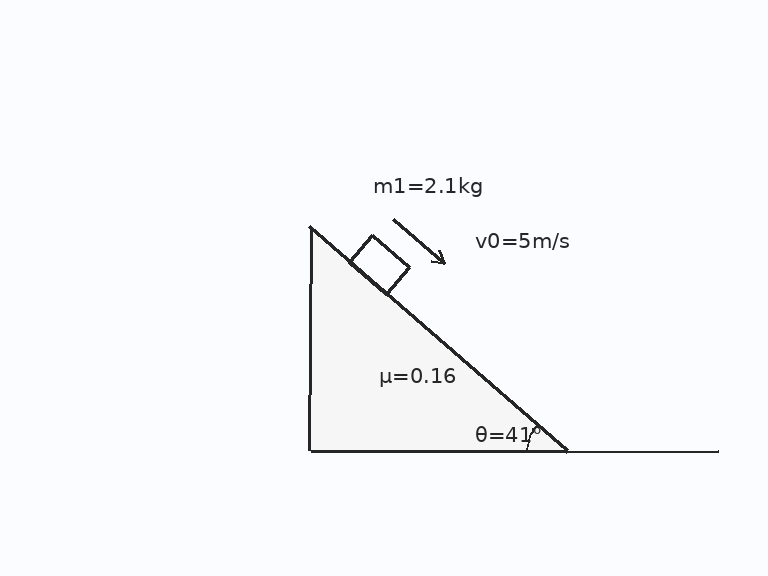block: (347, 233, 412, 296)
ramp: (308, 225, 569, 453)
